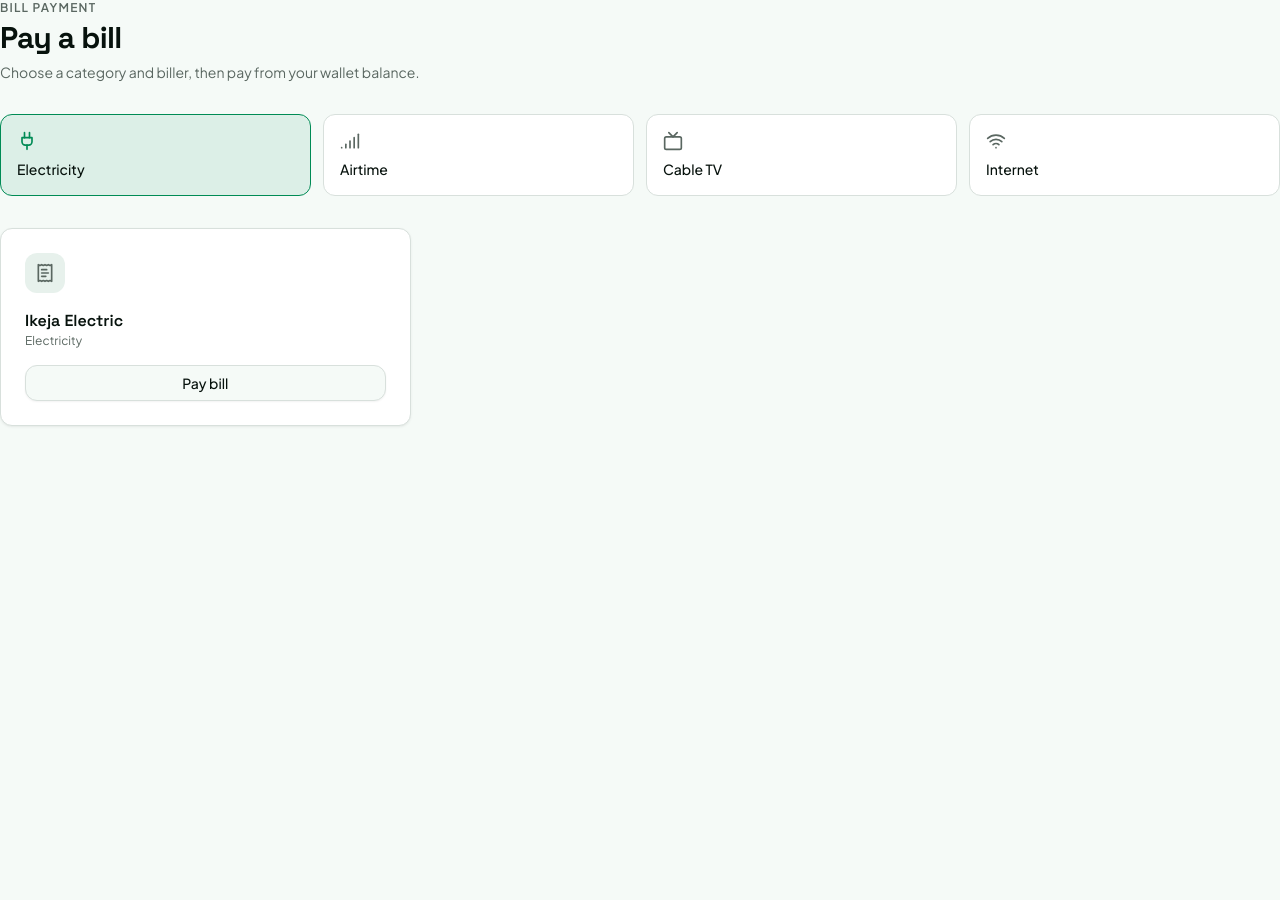
Test: BillsPage › blocks a payment with a short customer number
Click the button "Pay bill" at (205, 383), box [25,365,386,401]
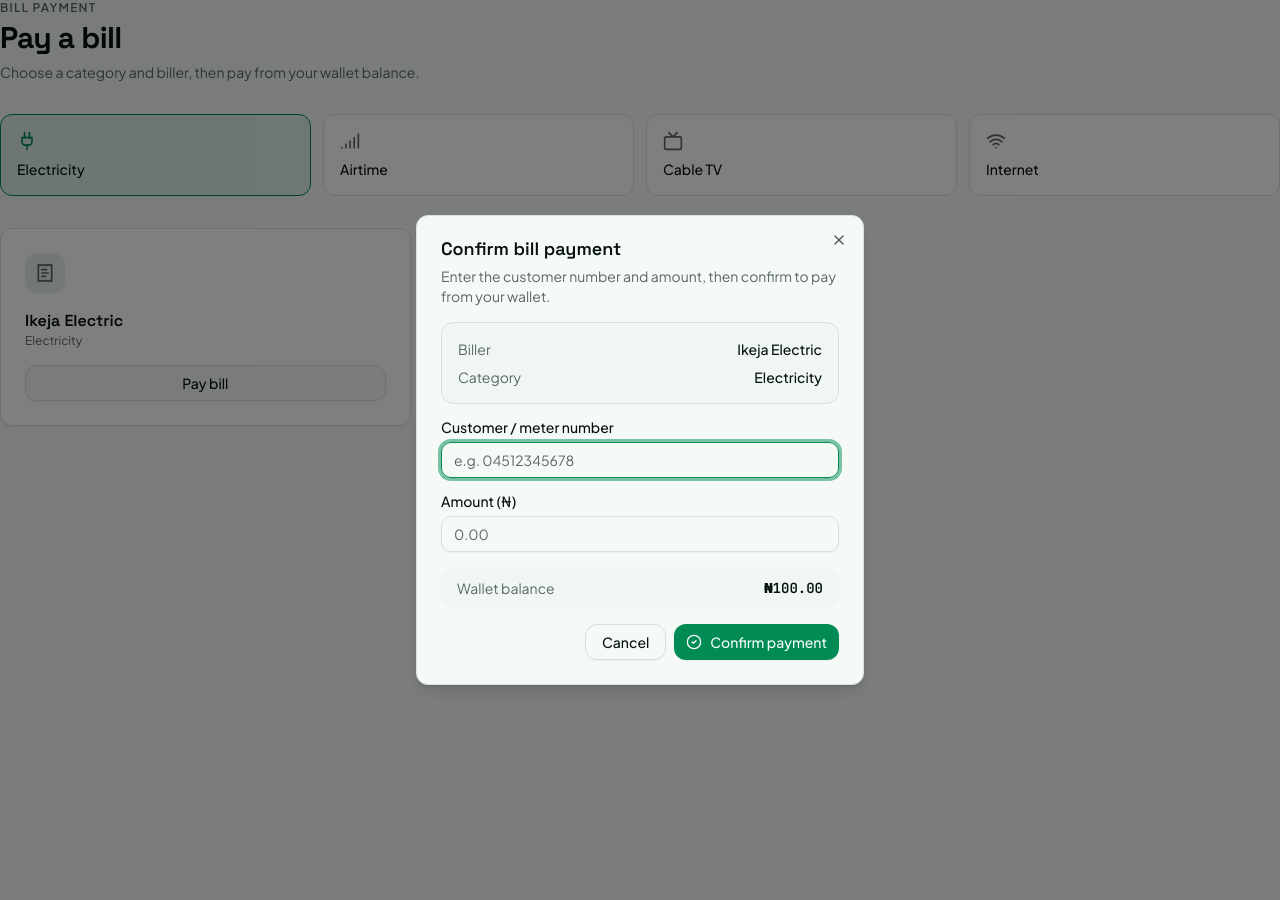
Type "12" into the field labelled "Customer / meter number" at (640, 460), box [441,442,839,478]
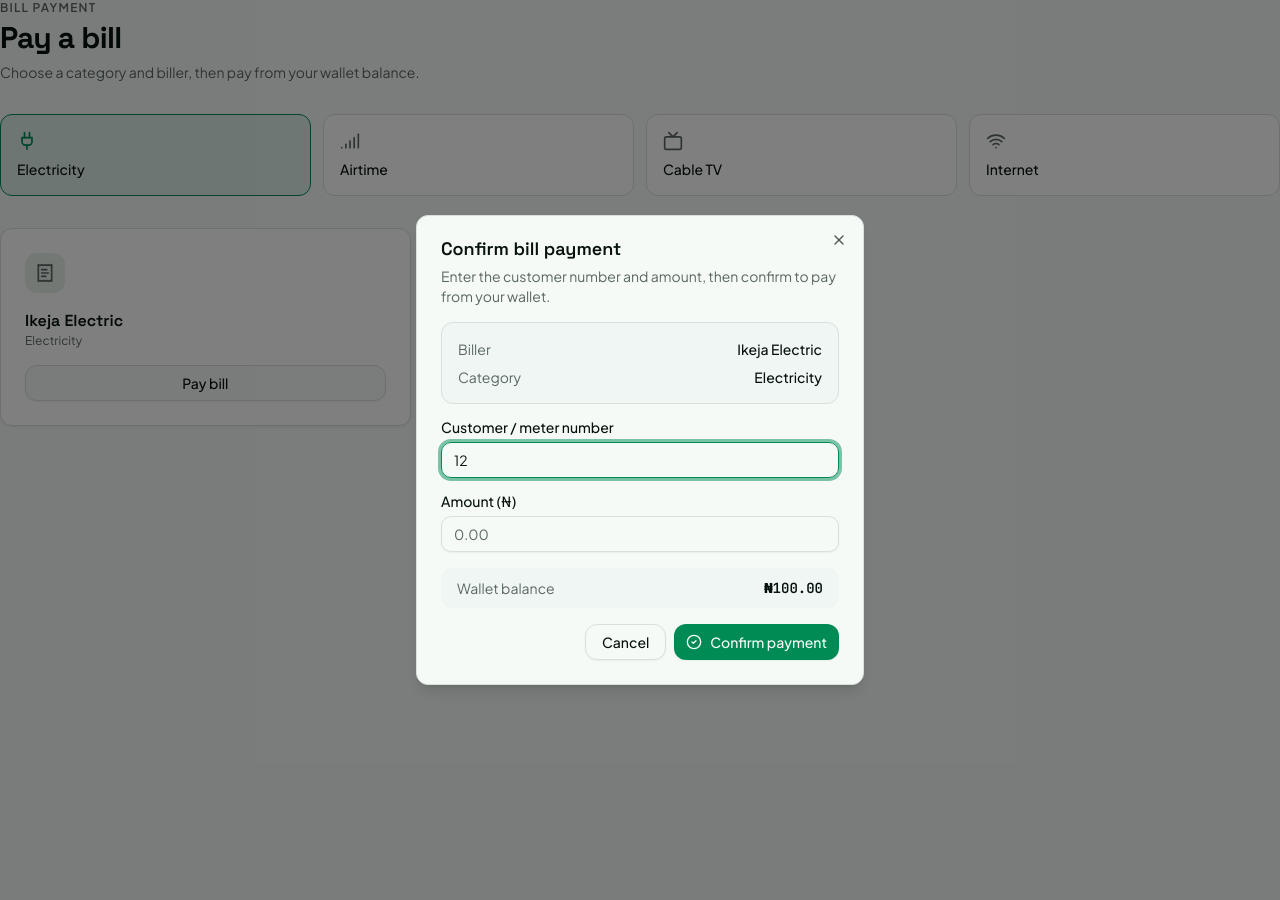
Type "20" into the field labelled "Amount (₦)" at (640, 534), box [441,516,839,552]
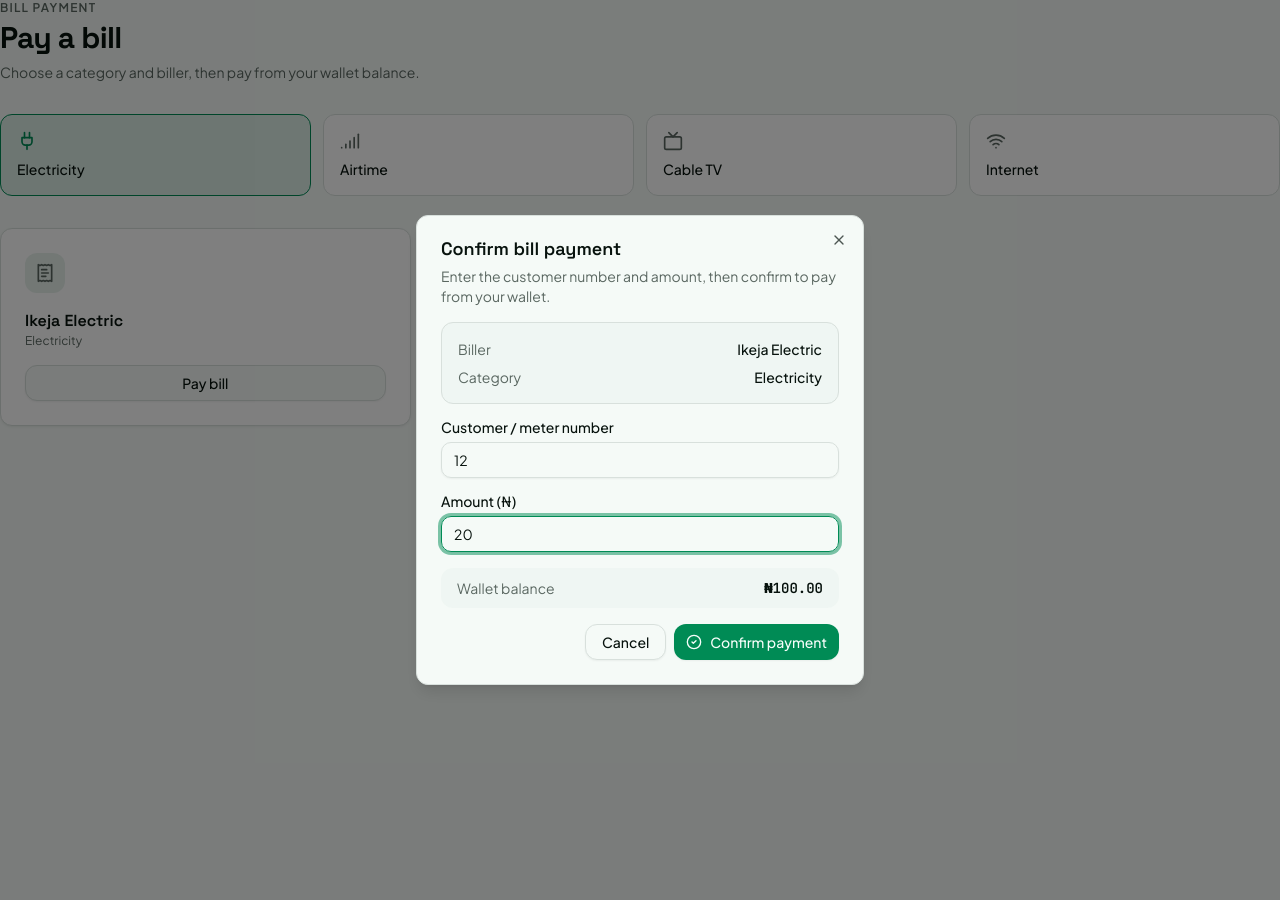
Click the button "Confirm payment" at (757, 642), box [674,624,839,660]
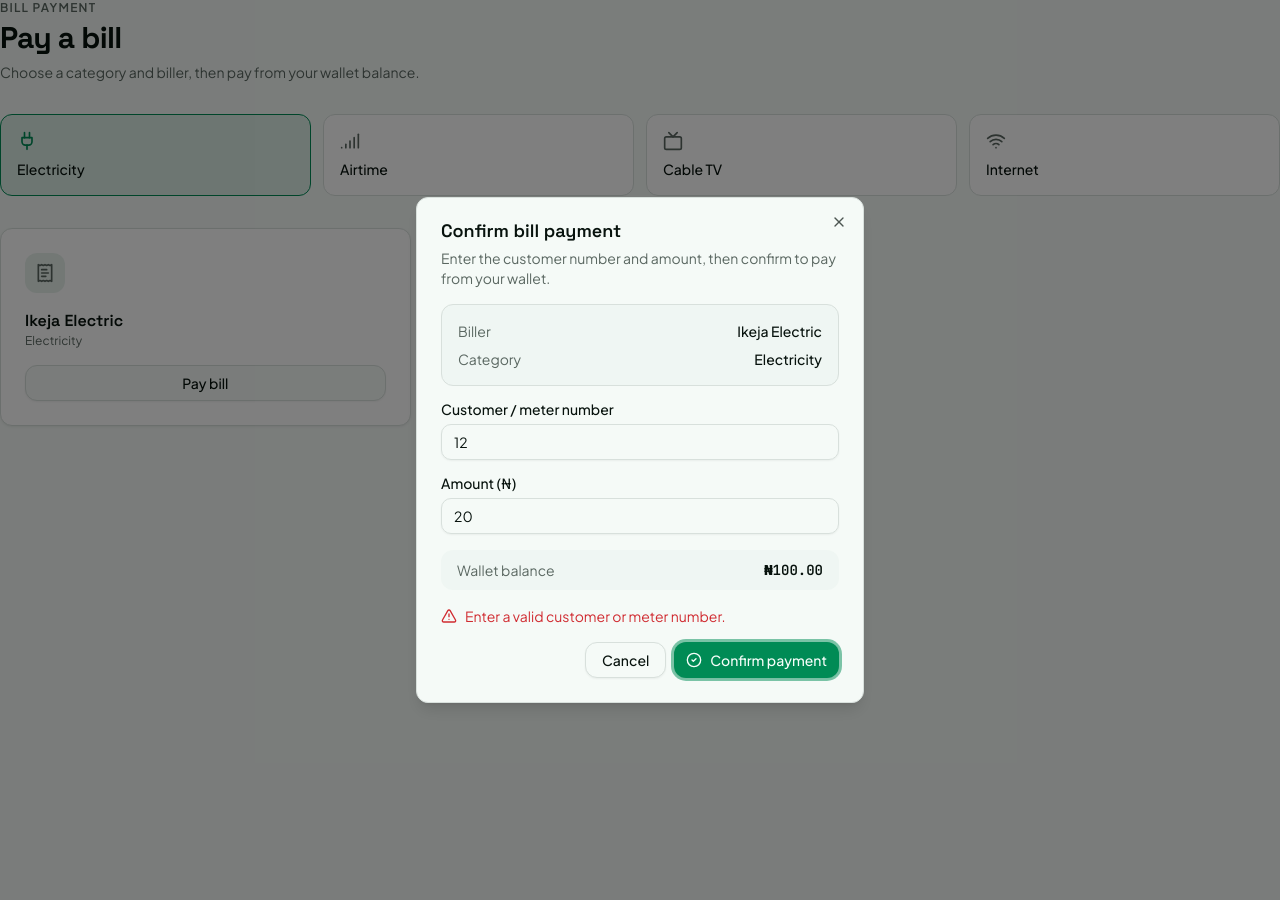
Expected: the text "Enter a valid customer or meter number." is shown, [441,607,726,625]
